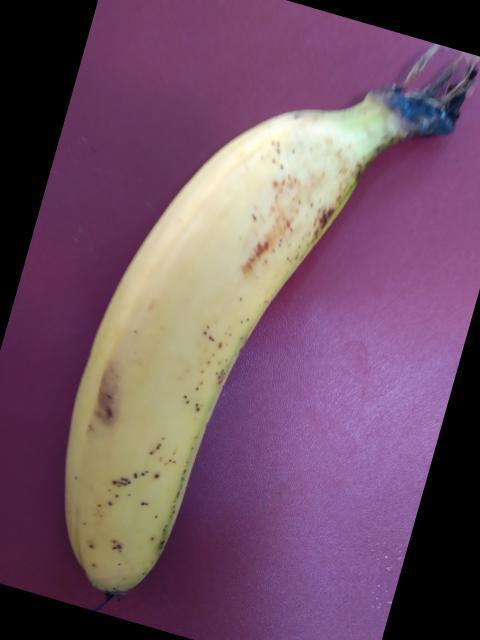ripe: (21, 109, 383, 588)
